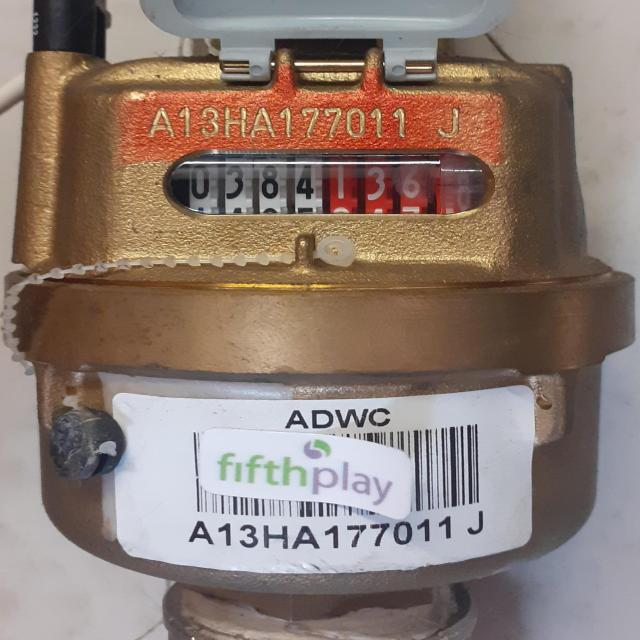gaz_meter: (25, 51, 640, 572)
indication: (177, 149, 477, 217)
